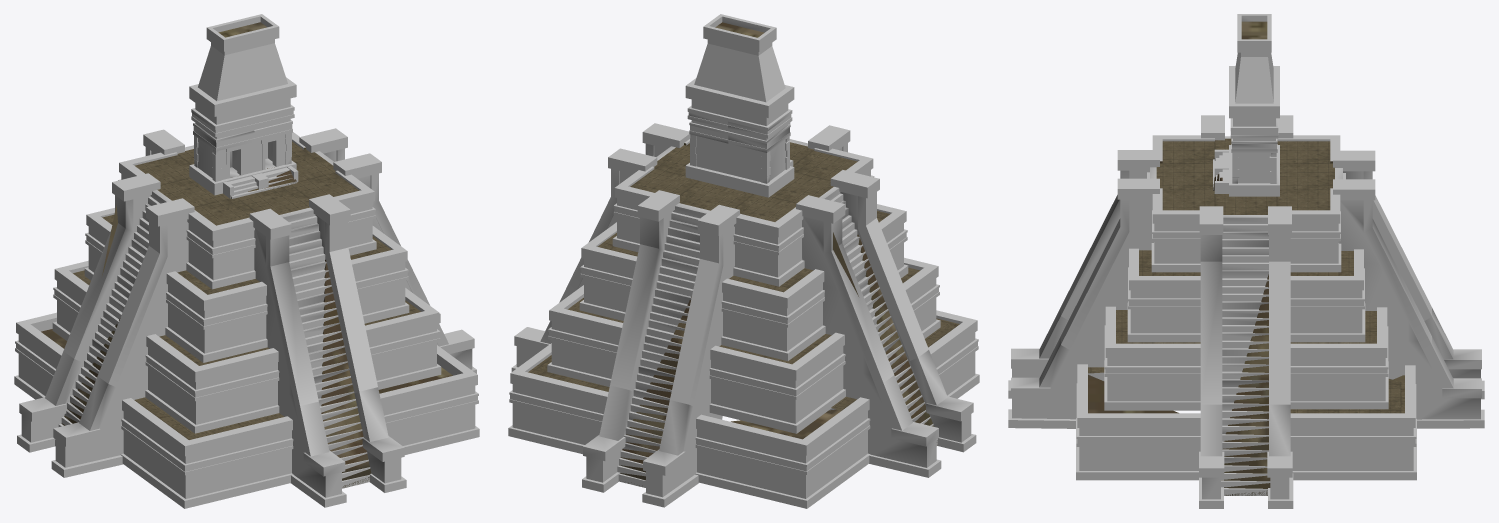
The model's file is Aztec_Temple_root.fbx.
3 views of the same model, side by side, from view 1: azimuth 30°, elevation 25°; view 2: azimuth 150°, elevation 25°; view 3: azimuth 270°, elevation 25° (orthographic).
Visible parts, largest first — view 1: Aztec_Temple_sh_144, Aztec_Temple_sh_135, Aztec_Temple_sh_1, Aztec_Temple_sh_43, Aztec_Temple_sh_141, Aztec_Temple_sh_4, Aztec_Temple_sh_68, Aztec_Temple_sh_78, Aztec_Temple_sh_8, Aztec_Temple_sh_9, Aztec_Temple_sh_139, Aztec_Temple_sh_14 (+65 smaller); view 2: Aztec_Temple_sh_81, Aztec_Temple_sh_135, Aztec_Temple_sh_2, Aztec_Temple_sh_70, Aztec_Temple_sh_43, Aztec_Temple_sh_74, Aztec_Temple_sh_8, Aztec_Temple_sh_94, Aztec_Temple_sh_82, Aztec_Temple_sh_9, Aztec_Temple_sh_79, Aztec_Temple_sh_14 (+63 smaller); view 3: Aztec_Temple_sh_26, Aztec_Temple_sh_135, Aztec_Temple_sh_80, Aztec_Temple_sh_138, Aztec_Temple_sh_24, Aztec_Temple_sh_58, Aztec_Temple_sh_47, Aztec_Temple_sh_137, Aztec_Temple_sh_136, Aztec_Temple_sh_43, Aztec_Temple_sh_50, Aztec_Temple_sh_61 (+60 smaller).
Part boxes in pixels (x1,y1,x2,y2): Aztec_Temple_sh_144: [279, 207, 371, 488]; Aztec_Temple_sh_135: [135, 141, 358, 225]; Aztec_Temple_sh_1: [55, 219, 188, 467]; Aztec_Temple_sh_43: [189, 22, 296, 116]; Aztec_Temple_sh_141: [123, 411, 291, 498]; Aztec_Temple_sh_4: [148, 348, 277, 424]; Aztec_Temple_sh_68: [325, 221, 377, 393]; Aztec_Temple_sh_78: [266, 235, 318, 407]; Aztec_Temple_sh_8: [55, 190, 171, 446]; Aztec_Temple_sh_9: [97, 220, 167, 386]; Aztec_Temple_sh_139: [254, 228, 341, 497]; Aztec_Temple_sh_14: [63, 195, 133, 361]; Aztec_Temple_sh_81: [617, 203, 710, 487]; Aztec_Temple_sh_135: [630, 142, 857, 221]; Aztec_Temple_sh_2: [802, 216, 936, 467]; Aztec_Temple_sh_70: [697, 409, 867, 498]; Aztec_Temple_sh_43: [685, 22, 794, 117]; Aztec_Temple_sh_74: [711, 346, 843, 423]; Aztec_Temple_sh_8: [819, 187, 937, 445]; Aztec_Temple_sh_94: [610, 217, 663, 391]; Aztec_Temple_sh_82: [670, 232, 723, 405]; Aztec_Temple_sh_9: [858, 192, 928, 360]; Aztec_Temple_sh_79: [646, 225, 734, 497]; Aztec_Temple_sh_14: [823, 217, 894, 385]; Aztec_Temple_sh_26: [1221, 215, 1270, 495]; Aztec_Temple_sh_135: [1156, 138, 1334, 214]; Aztec_Temple_sh_80: [1338, 200, 1480, 419]; Aztec_Temple_sh_138: [1012, 199, 1154, 419]; Aztec_Temple_sh_24: [1130, 290, 1362, 333]; Aztec_Temple_sh_58: [1079, 374, 1200, 470]; Aztec_Temple_sh_47: [1290, 375, 1413, 470]; Aztec_Temple_sh_137: [1200, 235, 1222, 404]; Aztec_Temple_sh_136: [1269, 235, 1290, 404]; Aztec_Temple_sh_43: [1229, 21, 1279, 118]; Aztec_Temple_sh_50: [1290, 358, 1385, 401]; Aztec_Temple_sh_61: [1107, 358, 1200, 401].
Bounding box in the file's own units: 566 × 501 × 566.
